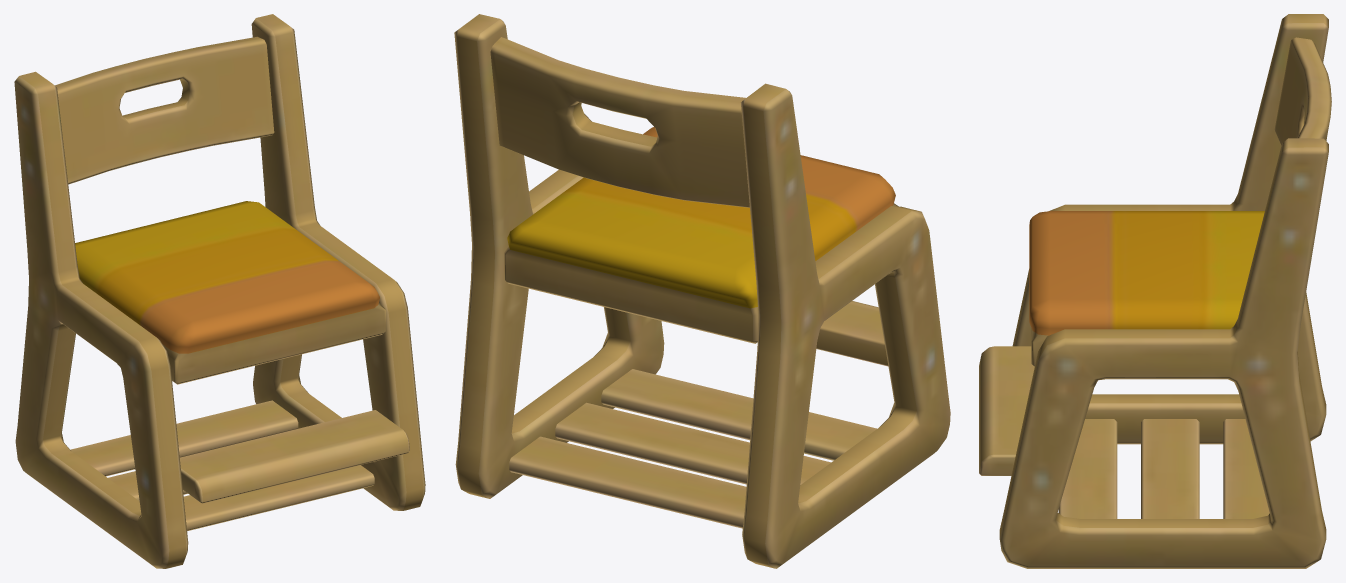
The picture shows the model from 3 angles, left to right: view 1: azimuth 30°, elevation 25°; view 2: azimuth 150°, elevation 25°; view 3: azimuth 270°, elevation 25°; orthographic projection. The views are drawn at different scales.
Size of the model in its own units: 6.33 by 8.99 by 6.82.
2 materials, 2 textured.
